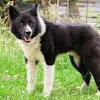dog: (6, 3, 43, 45)
